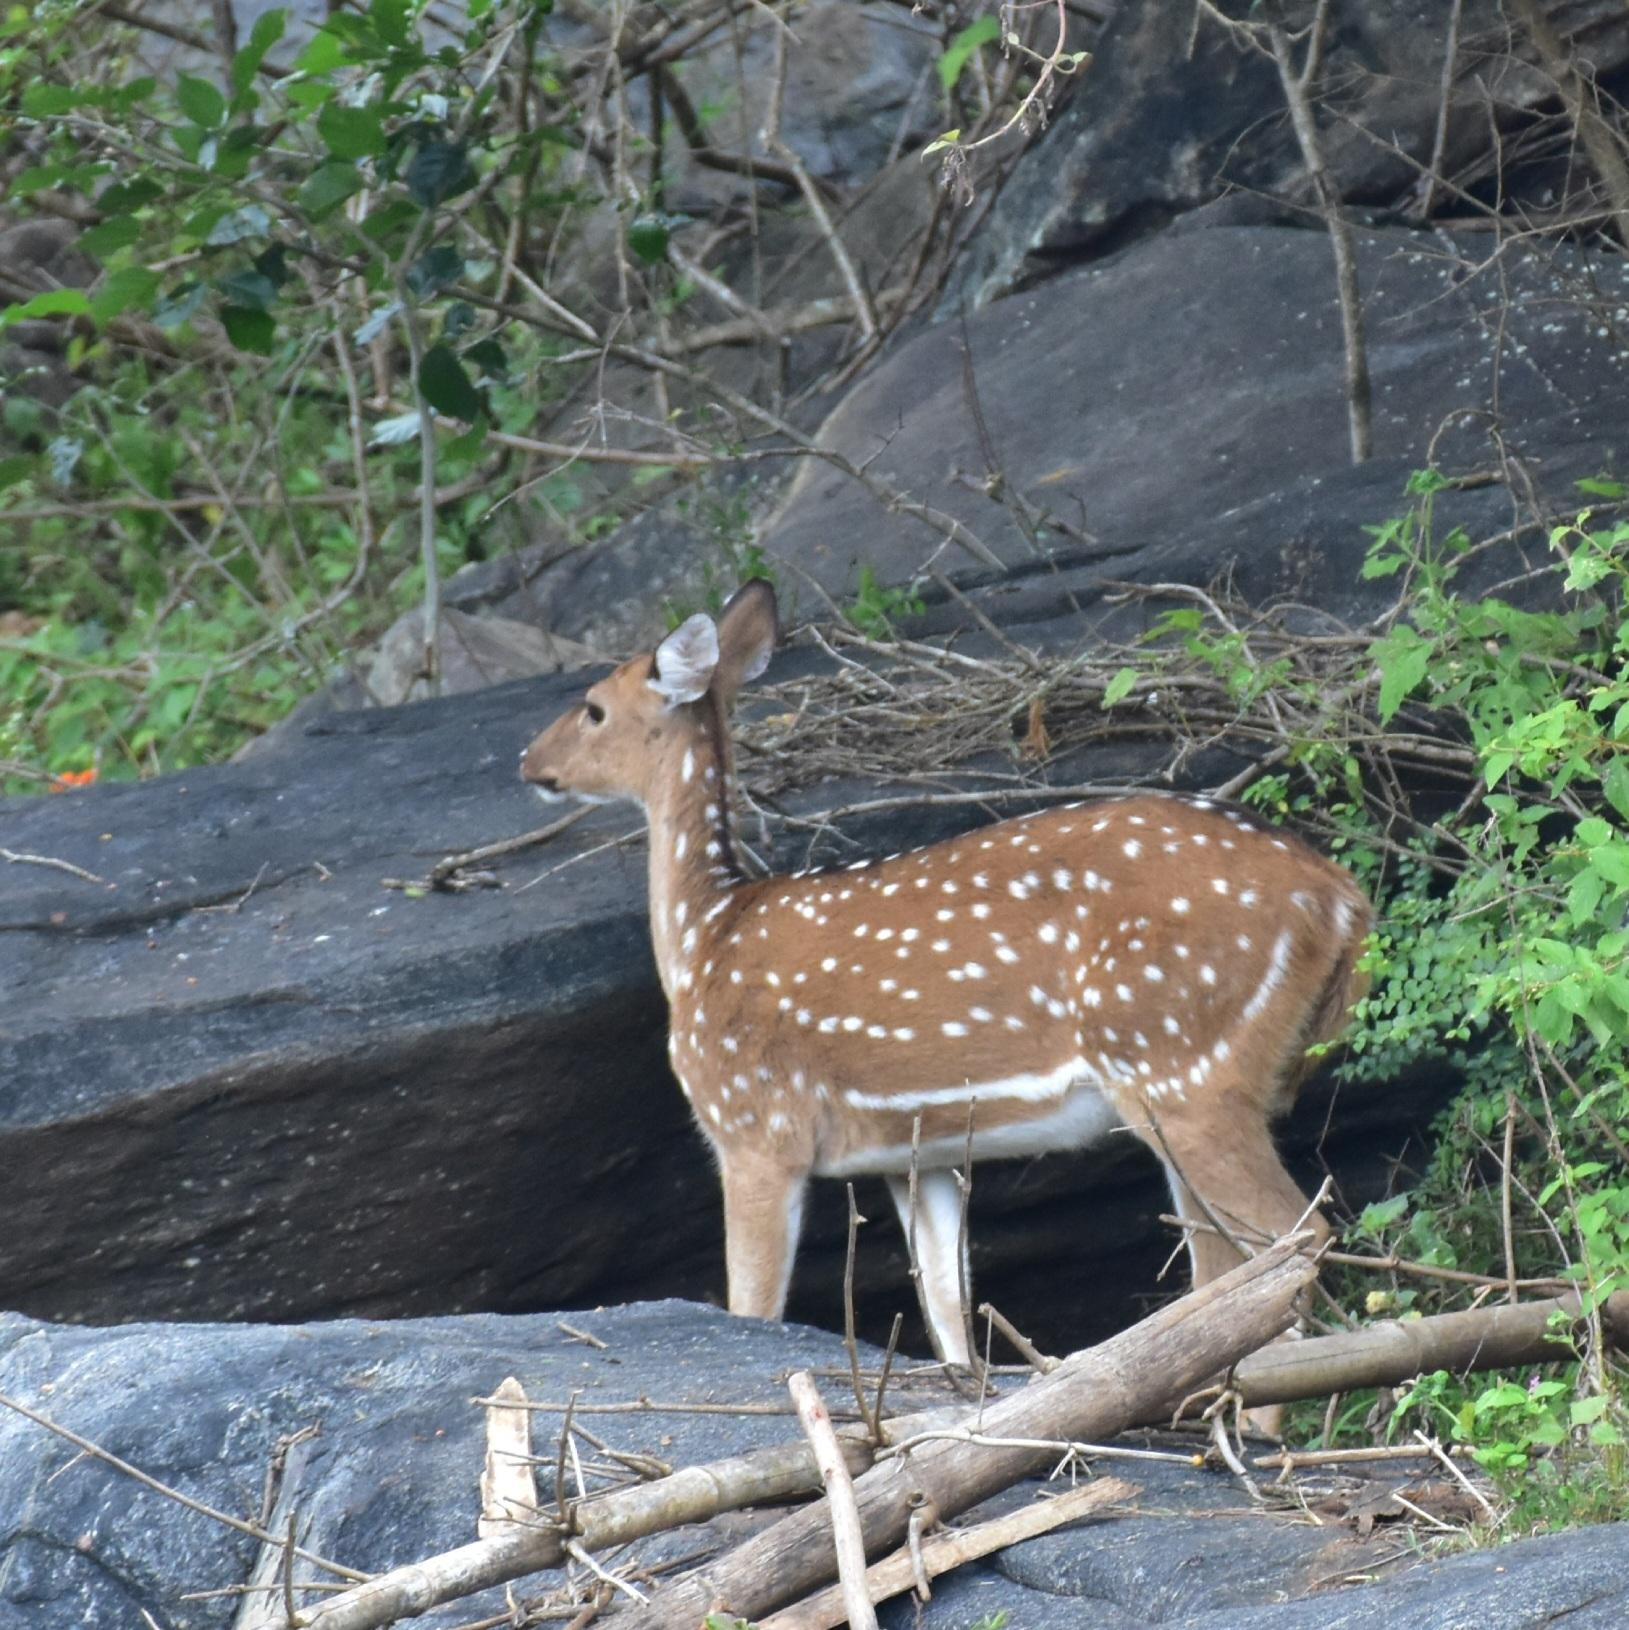Deer: (521, 582, 1368, 1366)
